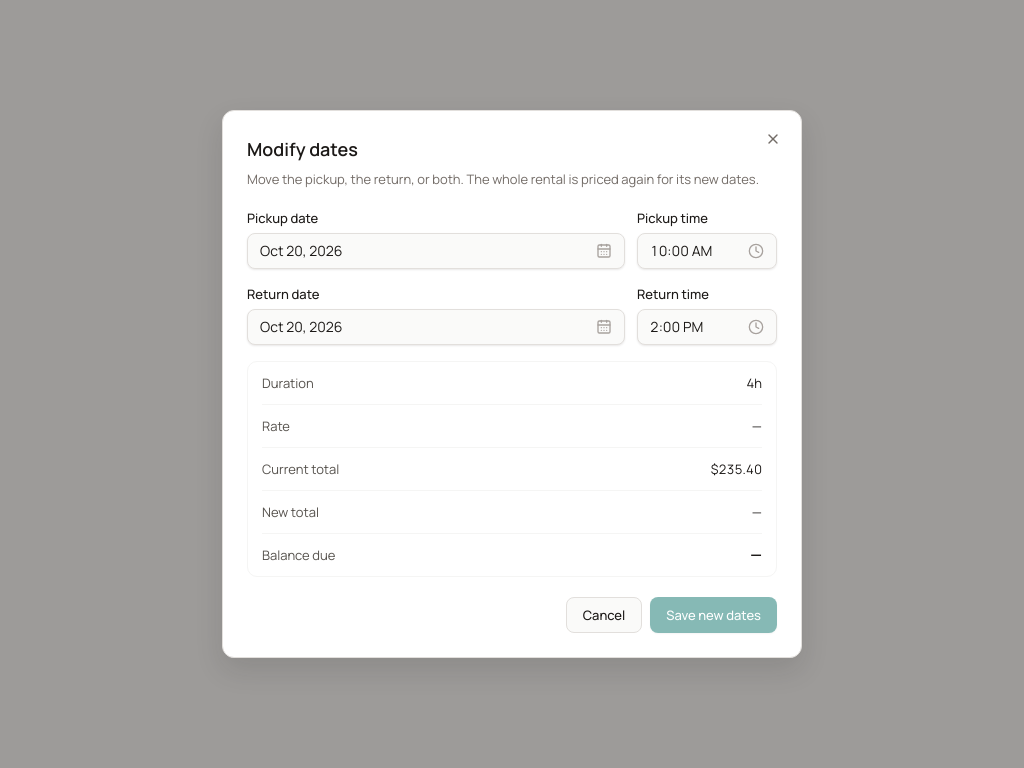
Test case: BookingDatesDialog › does not ask the API for a pickup moved past the return
Click the button named "Pickup time".
click(707, 251)  # box [637,233,777,269]
(page scrolled)
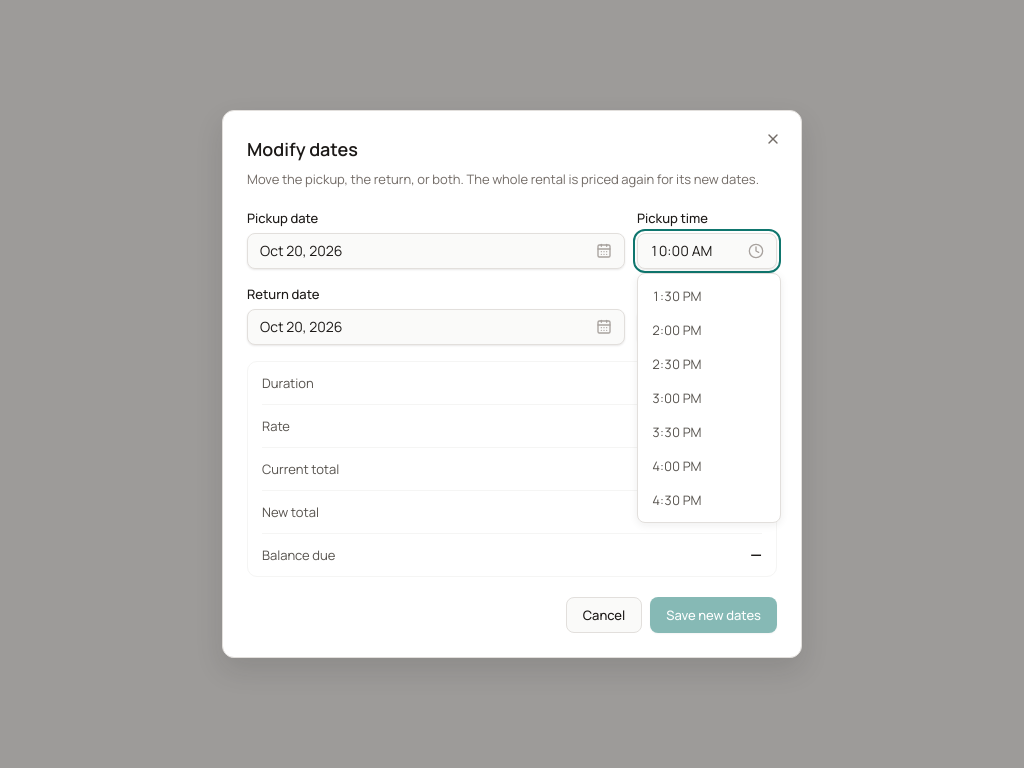
Click the option "3:00 PM".
click(709, 398)  # box [642,381,776,415]
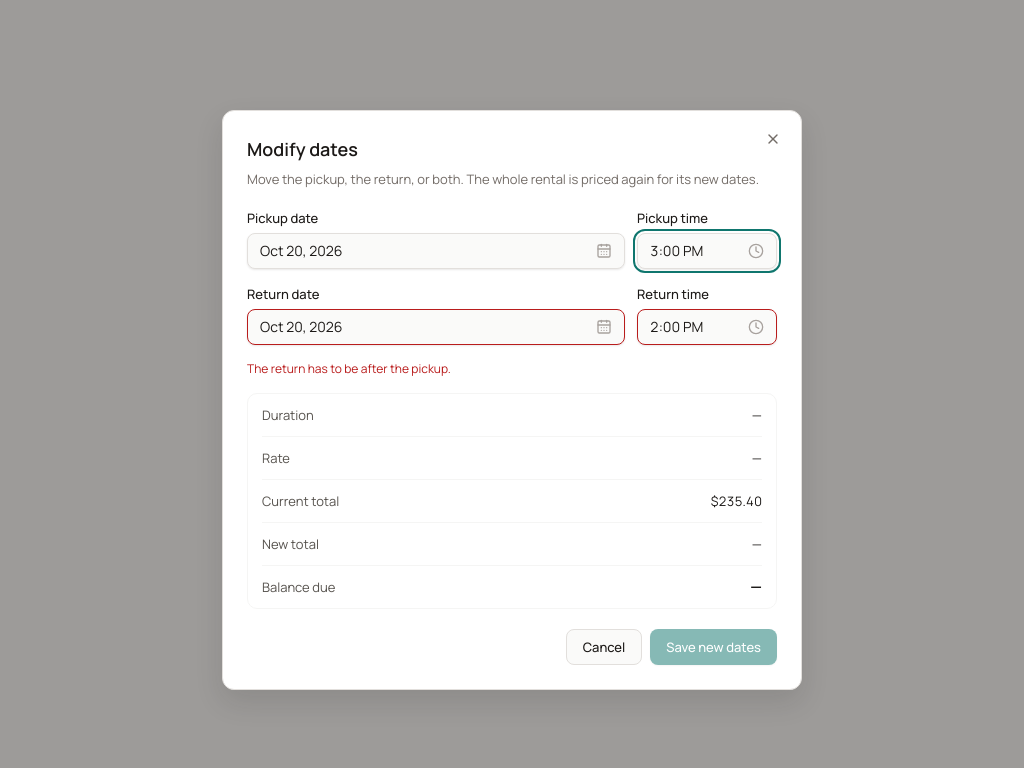
Expected: the button "Save new dates" is disabled, [650,629,777,665]
Now the message reads "The return has to be after the pickup.", box [247,360,451,377]
